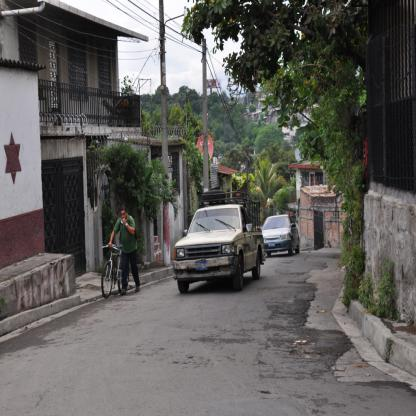Car: (261, 214, 295, 264)
